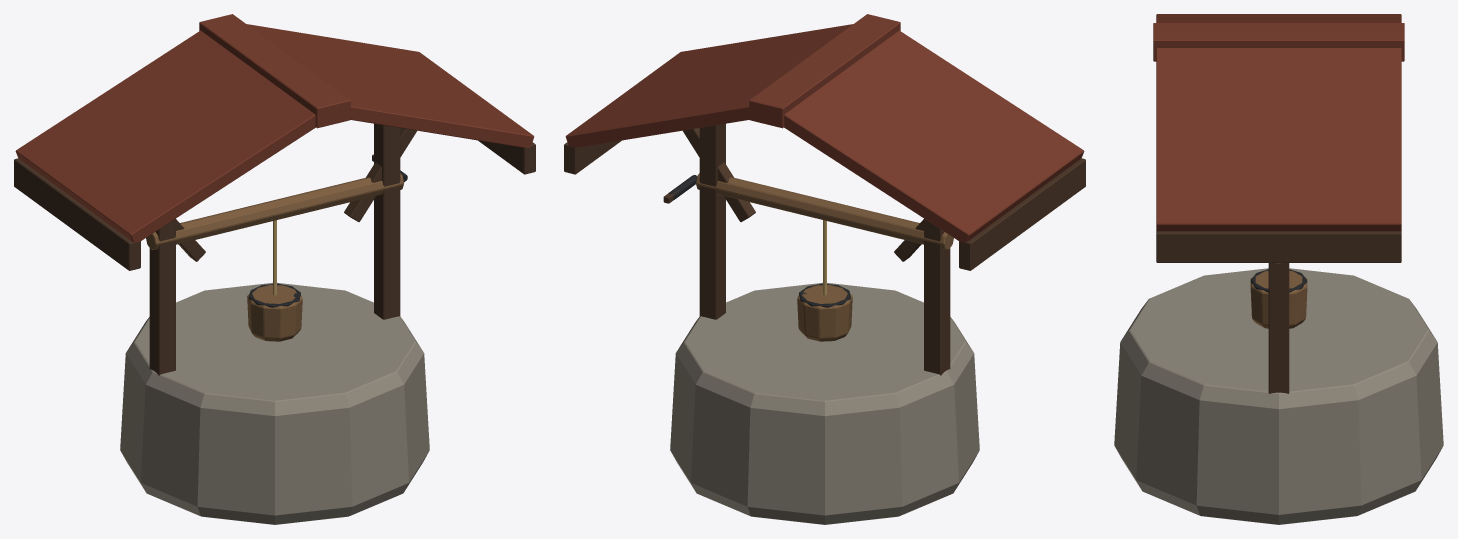
The model's file is V_Puits.glb.
3 renders of one model, left to right at view 1: azimuth 30°, elevation 25°; view 2: azimuth 150°, elevation 25°; view 3: azimuth 270°, elevation 25°, orthographic. The views are drawn at different scales.
Parts seen in each view (by area): view 1: V_Puits; view 2: V_Puits; view 3: V_Puits.
Part boxes in pixels (x1,y1,x2,y2): V_Puits: (14, 14, 535, 524); V_Puits: (564, 14, 1085, 524); V_Puits: (1114, 14, 1443, 524).
Bounding box in the file's own units: 3.34 × 3.15 × 2.2.
